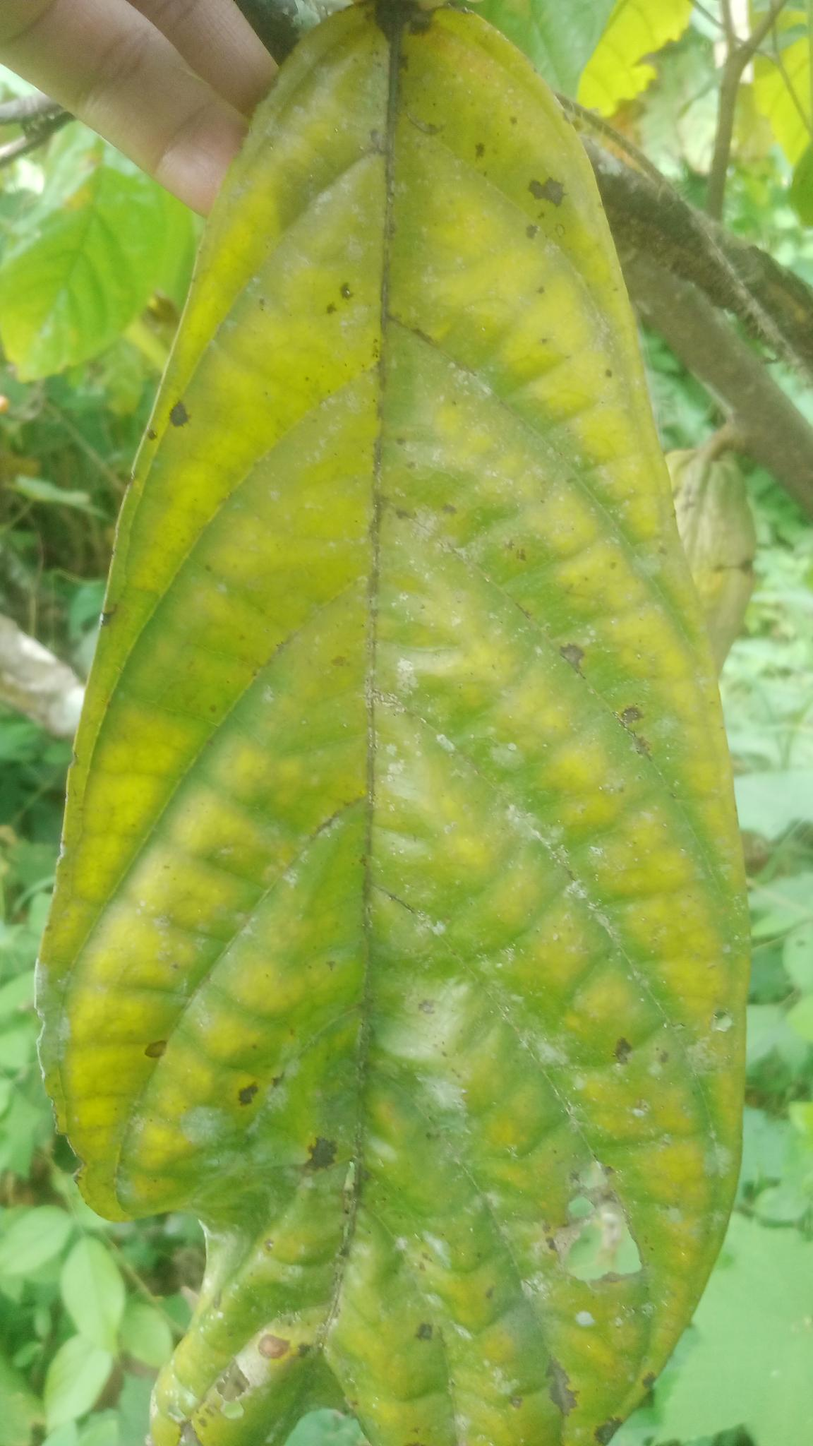Potasio: (20, 5, 765, 1446)
